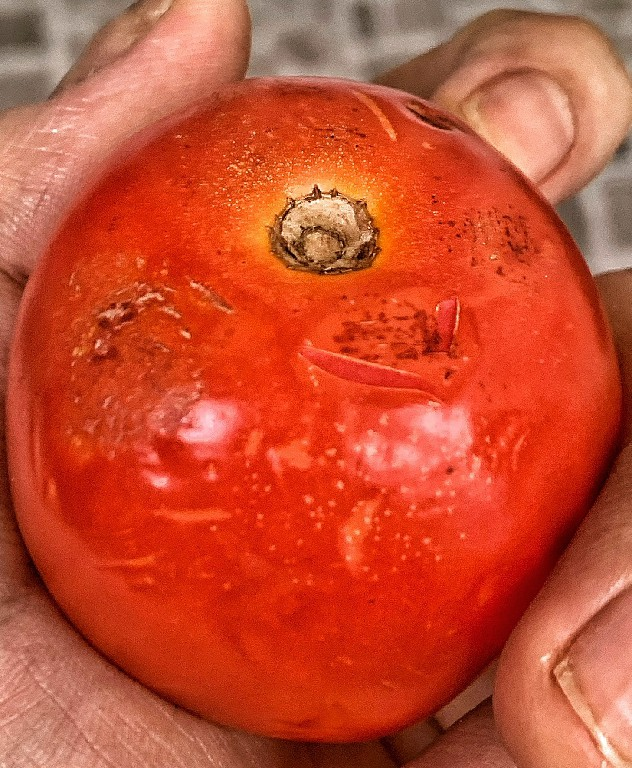NG: (13, 78, 626, 762)
